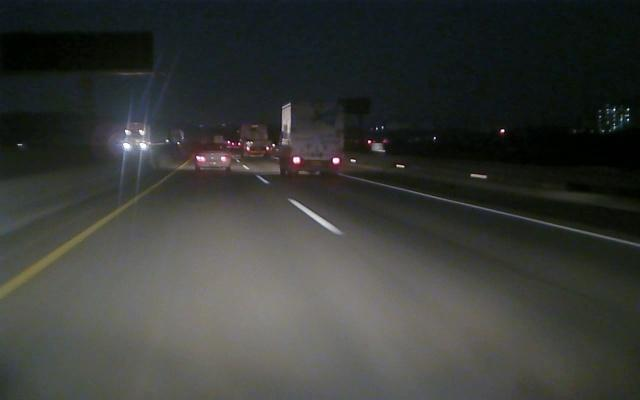lane: (347, 175, 637, 249), (1, 175, 172, 299), (255, 173, 345, 236)
